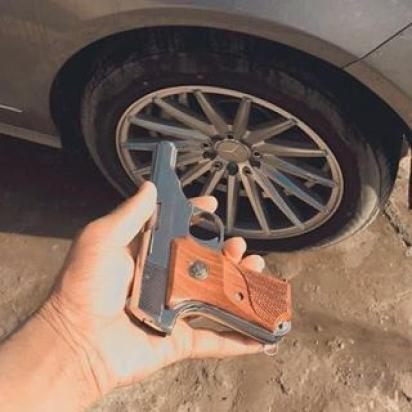Gun: (121, 134, 297, 348)
